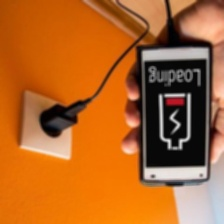phone: (134, 39, 214, 187)
